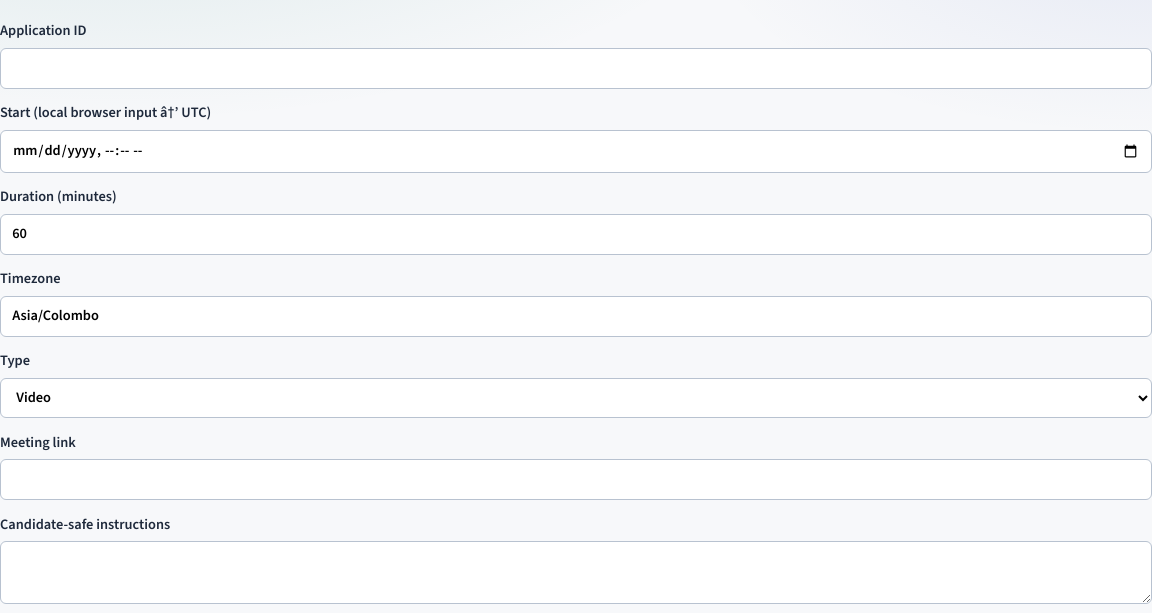
it: Phase 5.2 recruiter UI › shows interview conflict warning
In the field labelled "Application ID": (576, 68) [0, 48, 1151, 89], type "12"
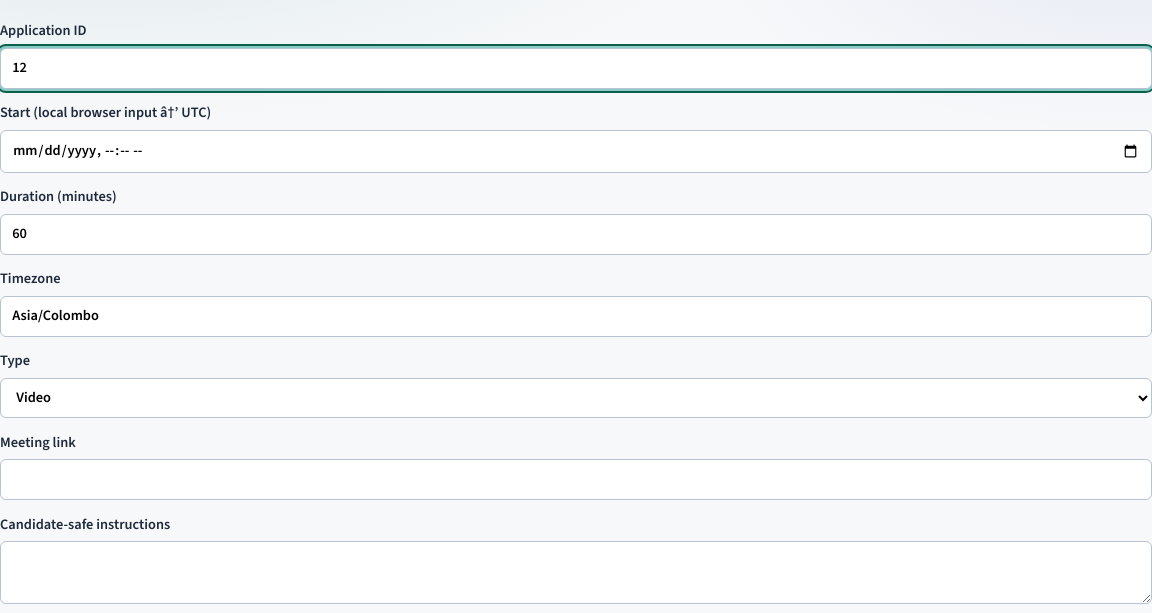
In the field labelled "Start (local browser input â†’ UTC)": (576, 151) [0, 130, 1151, 173], type "2030-01-01T10:00"
(page scrolled)
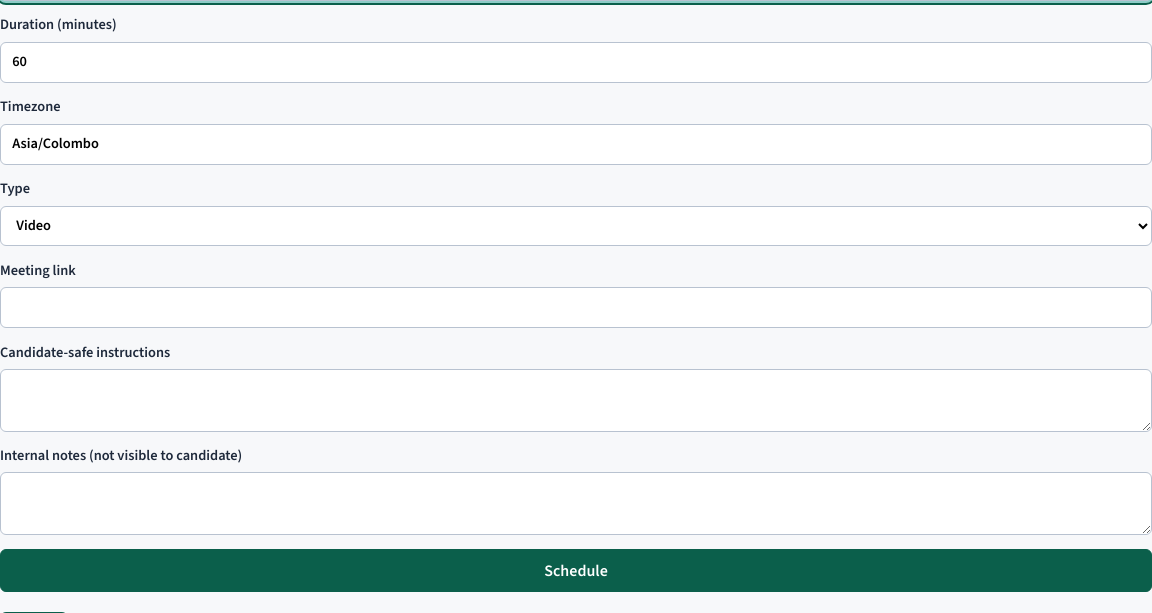
Click the button "Schedule": (576, 571) [0, 549, 1151, 592]
(page scrolled)
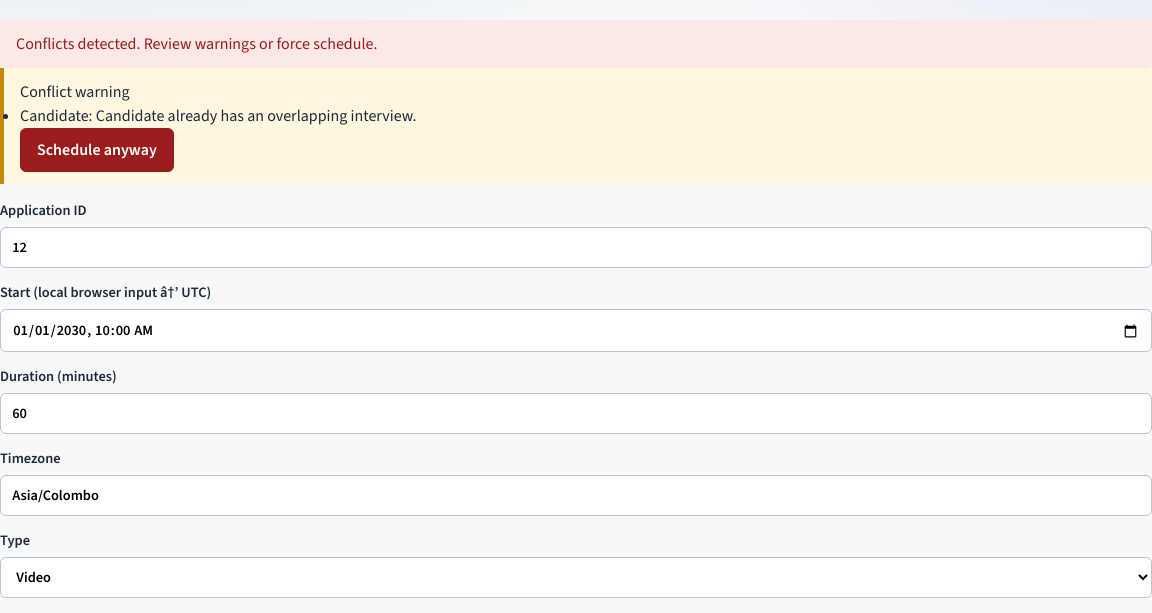
Expected: the text "Conflict warning" is shown, [20, 81, 130, 102]
Expected: the list item "Candidate: Candidate already has an overlapping interview." is shown, [20, 105, 416, 126]
